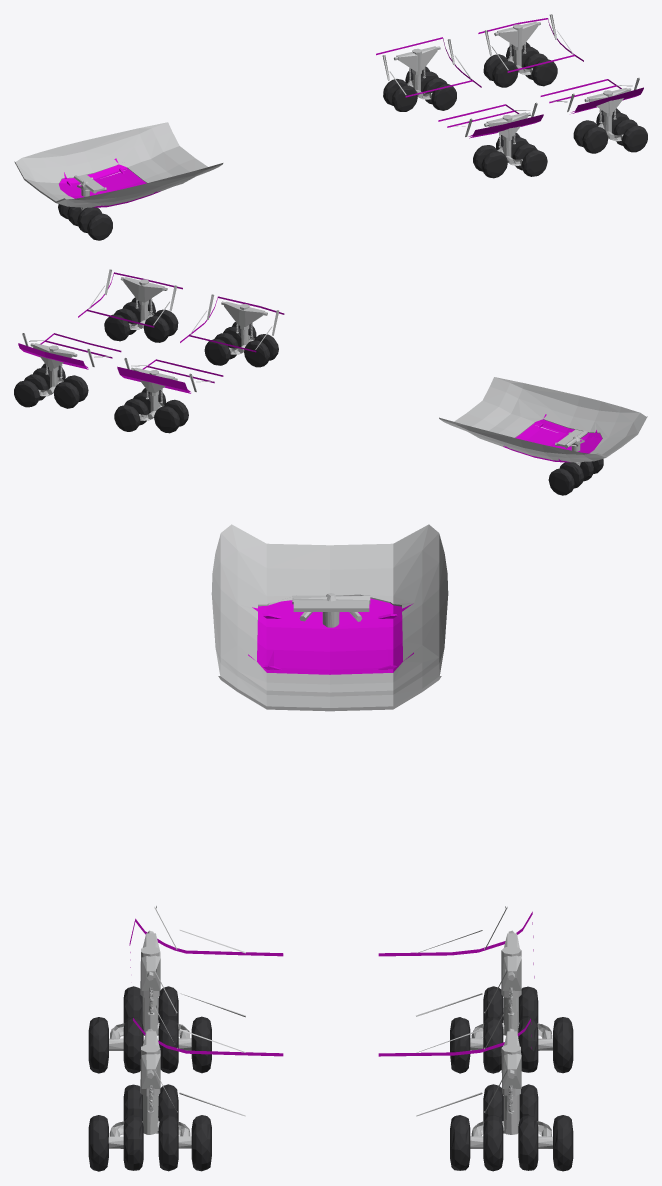
The model's file is c5.gear.glb.
3 views of the same model, one above another, from view 1: azimuth 30°, elevation 25°; view 2: azimuth 150°, elevation 25°; view 3: azimuth 270°, elevation 25° (orthographic). The views are drawn at different scales.
Visible parts, largest first — view 1: gear; view 2: gear; view 3: gear.
Part boxes in pixels (<box>): gear: <box>14,14,647,240</box>; gear: <box>14,269,647,495</box>; gear: <box>88,524,573,1171</box>.
Size of the model in its own units: 28 by 2.91 by 10.57.
